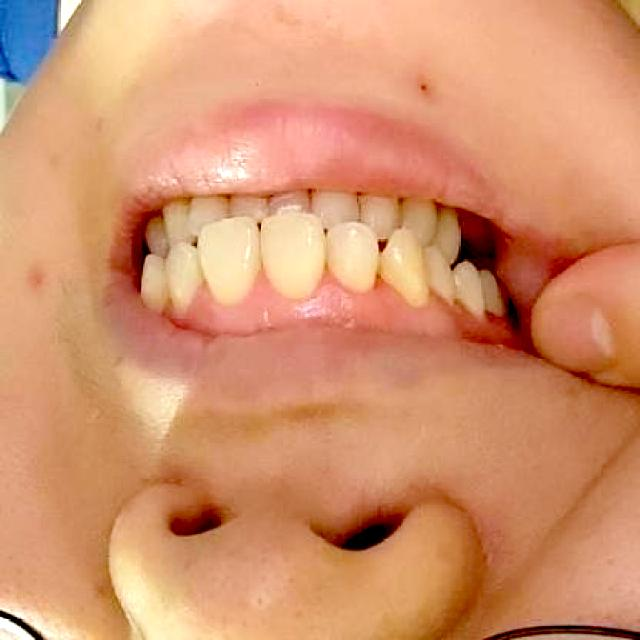Plaque: (427, 286, 456, 308), (459, 300, 484, 315)
